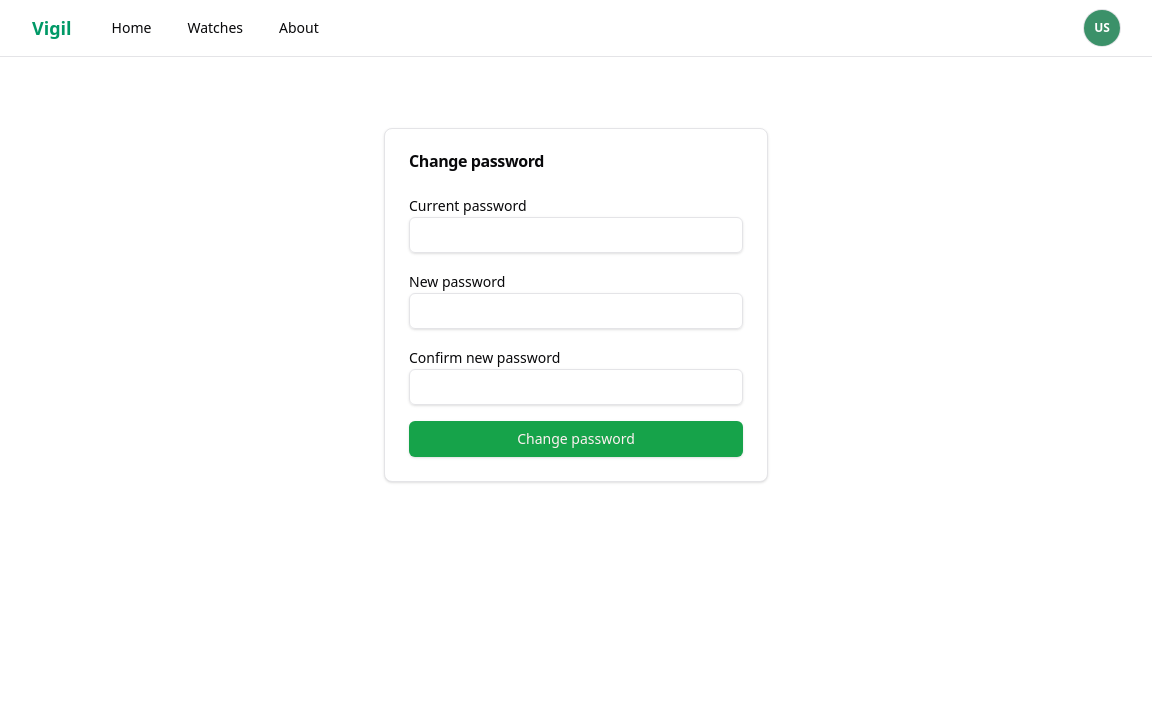
it: Change password page › shows policy errors for weak new password
In the password field labelled "Current password": (576, 235) x1=409 y1=217 x2=743 y2=253, type "OldPass1!"
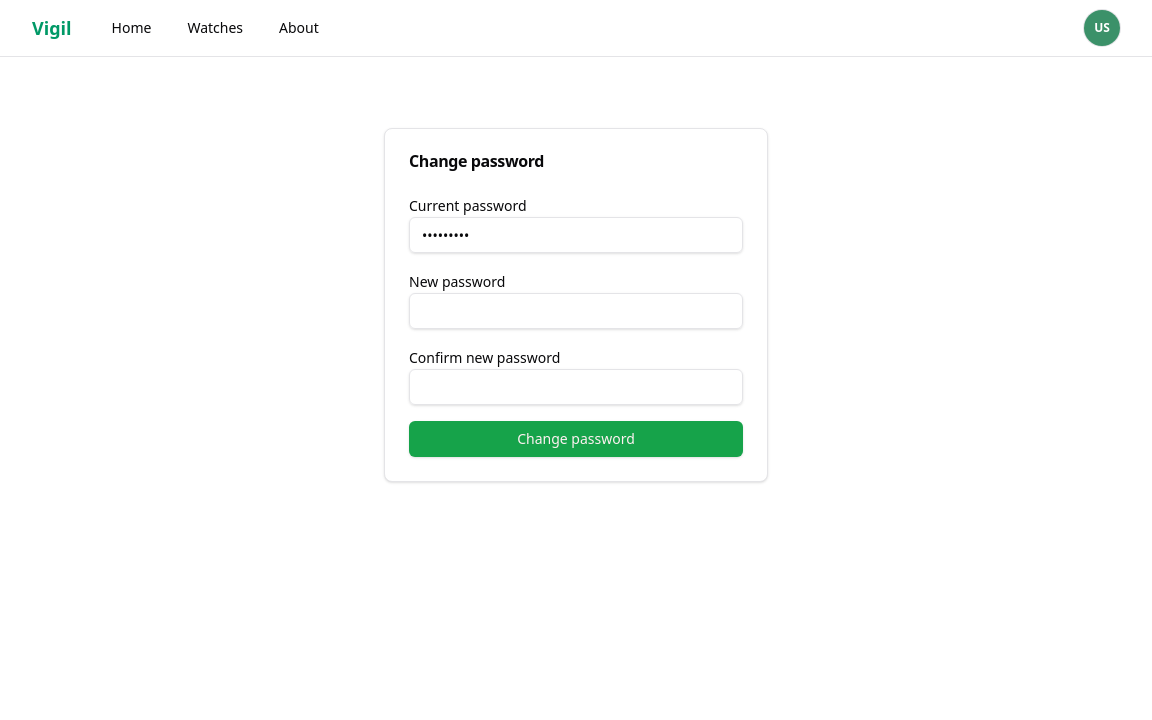
In the password field labelled "New password": (576, 311) x1=409 y1=293 x2=743 y2=329, type "short"
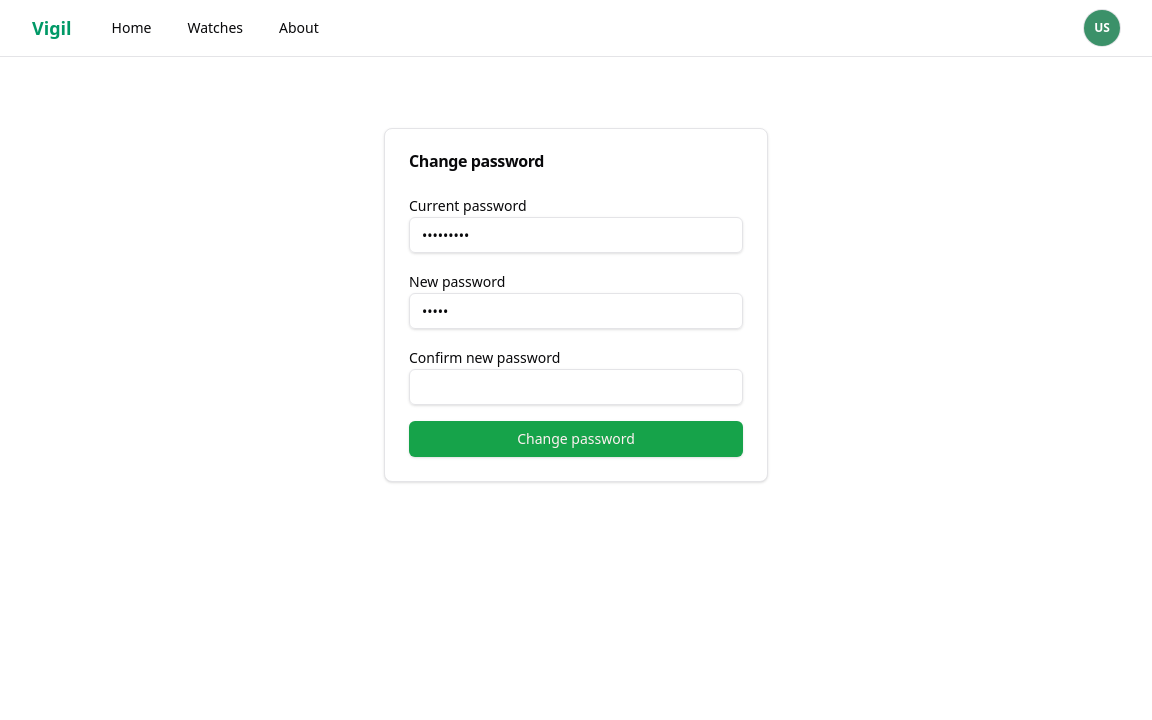
In the password field labelled "Confirm new password": (576, 387) x1=409 y1=369 x2=743 y2=405, type "short"
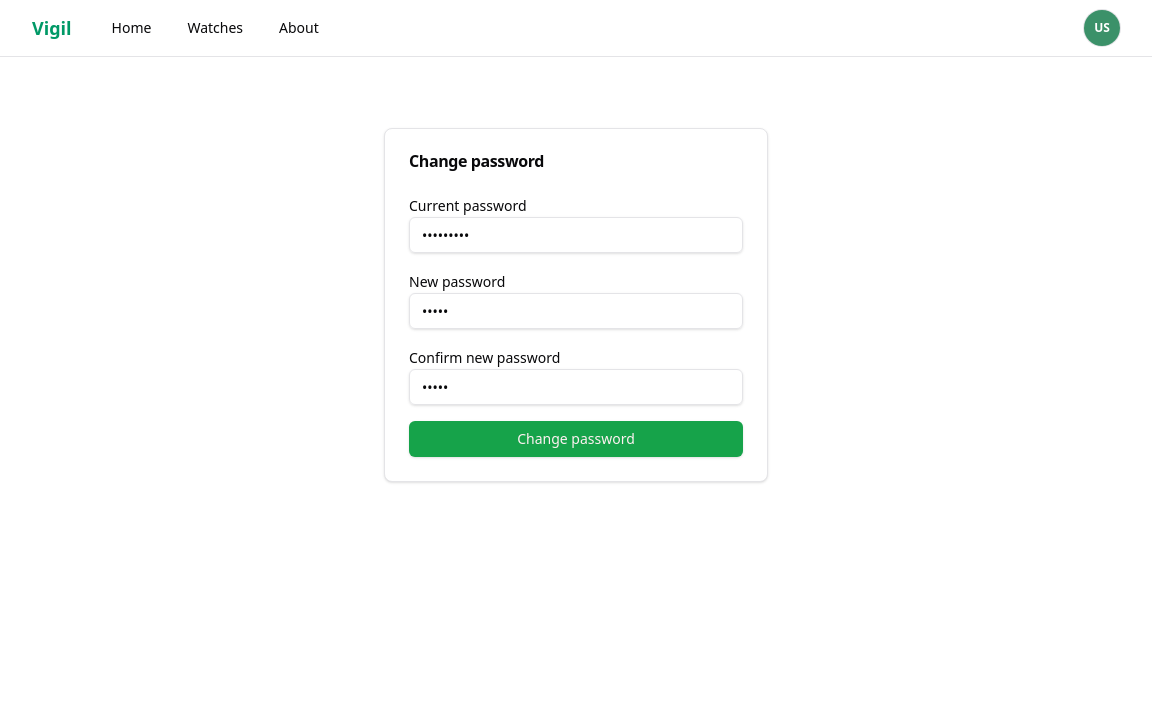
Click the button "Change password": (576, 439) x1=409 y1=421 x2=743 y2=457
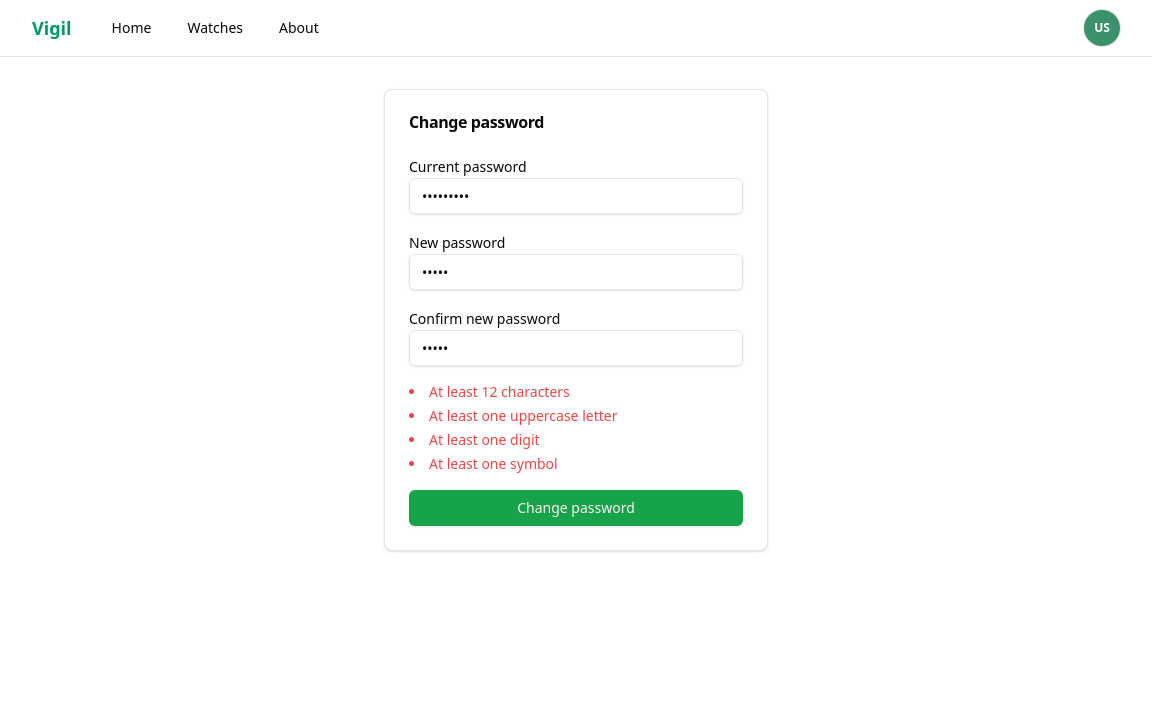
Expected: the message shows "At least 12 characters", x1=429 y1=382 x2=570 y2=401
